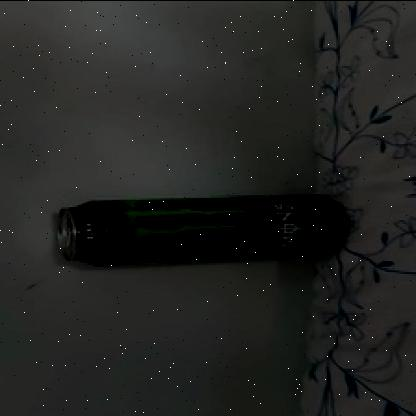Can: (51, 191, 354, 268)
